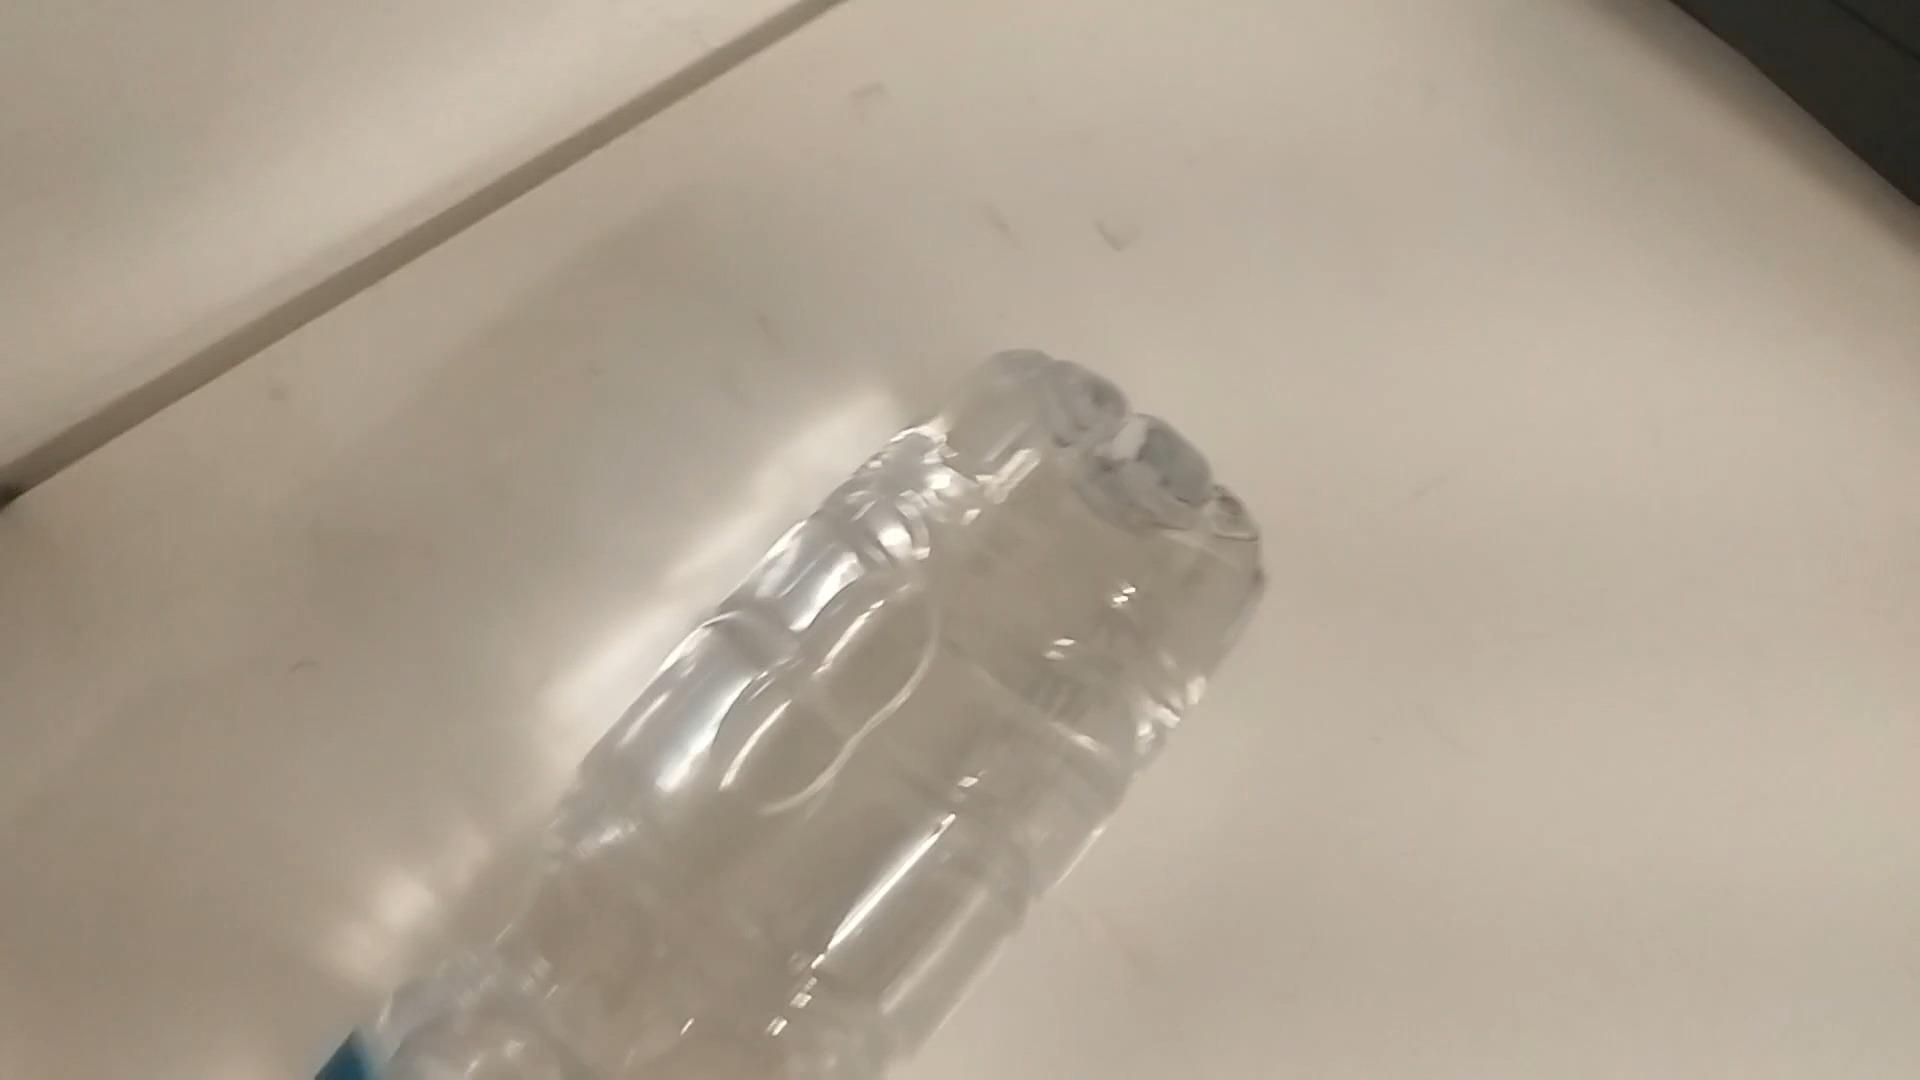agua: (291, 353, 1254, 1080)
